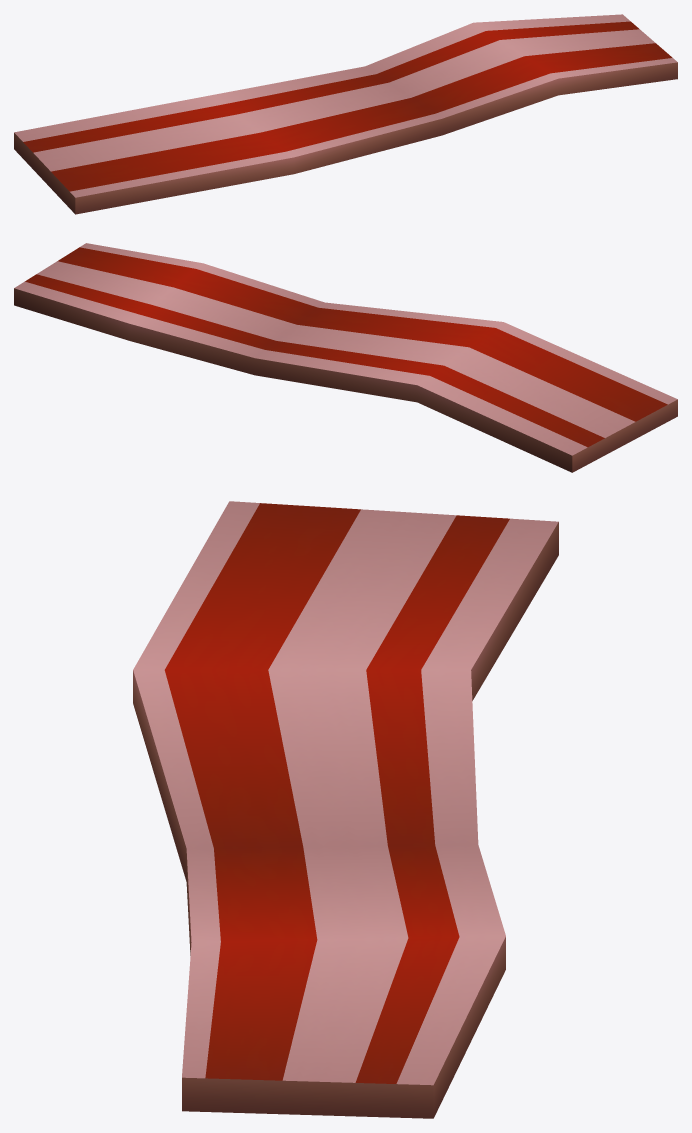
Rendered from Bacon_Strip_1B.fbx.
3 renders of one model, top to bottom at view 1: azimuth 30°, elevation 25°; view 2: azimuth 150°, elevation 25°; view 3: azimuth 270°, elevation 25°, orthographic. The views are drawn at different scales.
Parts seen in each view (by area): view 1: Bacon_Strip_1B; view 2: Bacon_Strip_1B; view 3: Bacon_Strip_1B.
Part boxes in pixels (x1=…): Bacon_Strip_1B: x1=14, y1=14, x2=677, y2=214; Bacon_Strip_1B: x1=14, y1=243, x2=677, y2=472; Bacon_Strip_1B: x1=133, y1=501, x2=558, y2=1118.
Size of the model in its own units: 35.28 by 1.54 by 10.87.
